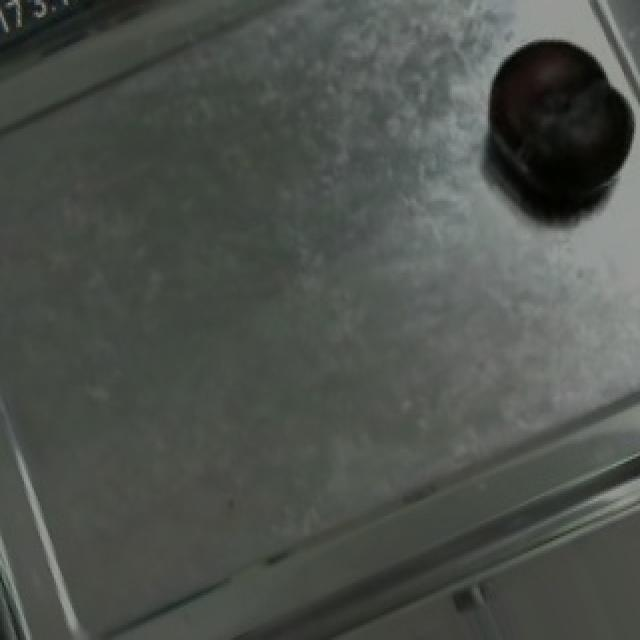Fruit: (468, 20, 640, 236)
